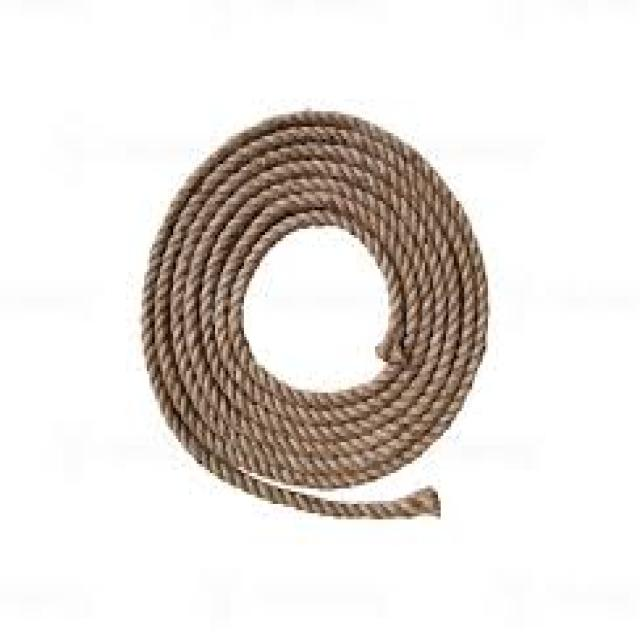Rope: (132, 104, 490, 531)
